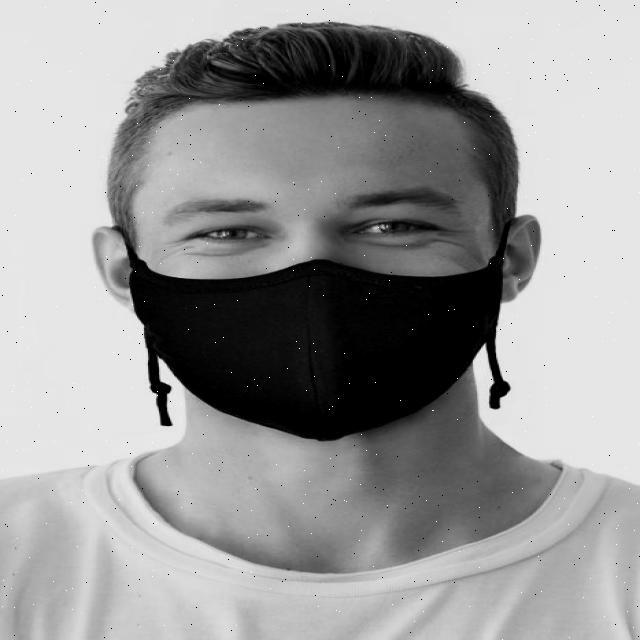fake: (112, 202, 554, 480)
real: (134, 95, 500, 462)
